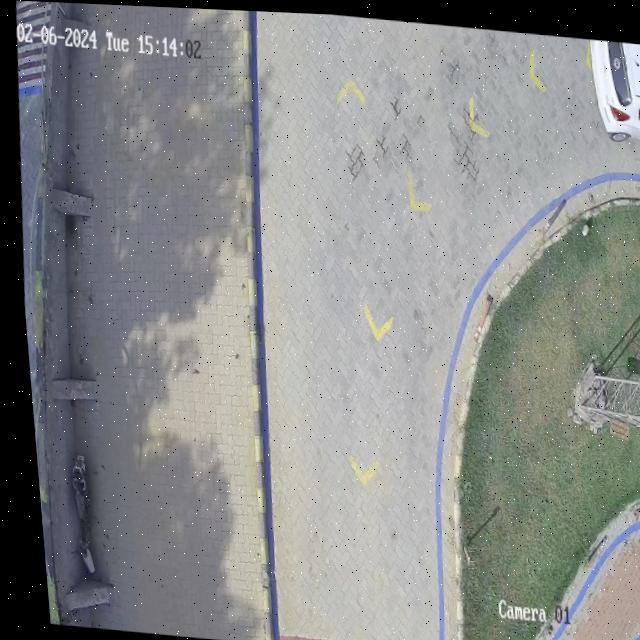car: (594, 35, 640, 133)
